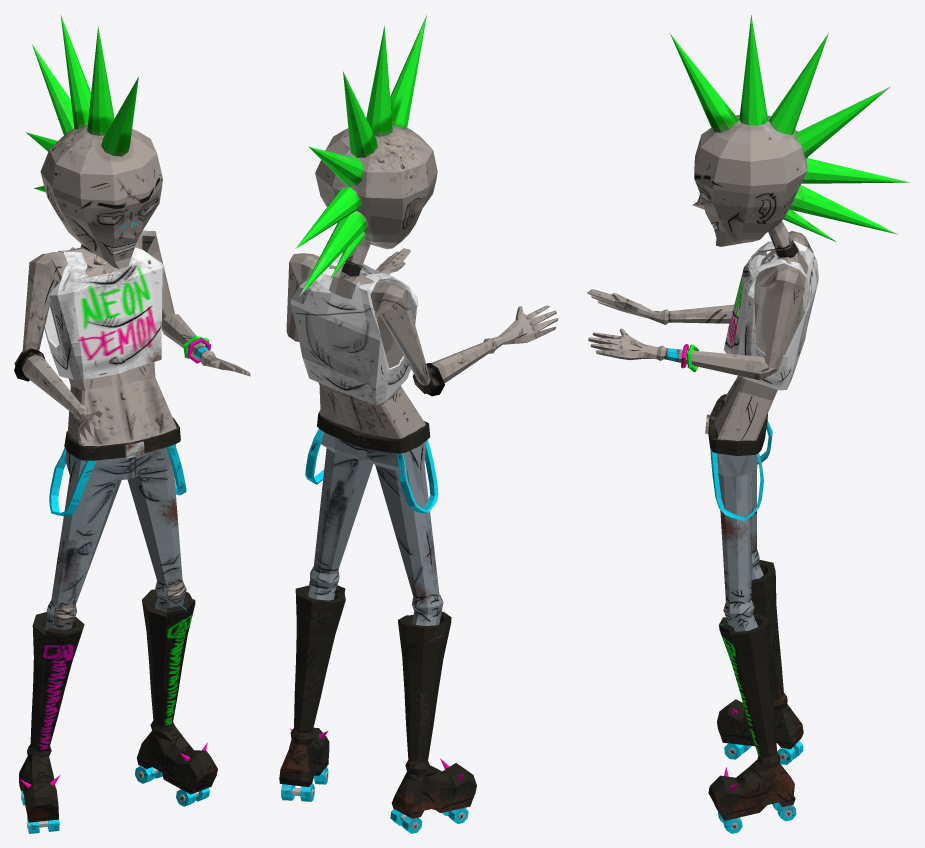
Rendered from punkAnimation_000004.obj.
The picture shows the model from 3 angles, left to right: view 1: azimuth 30°, elevation 25°; view 2: azimuth 150°, elevation 25°; view 3: azimuth 270°, elevation 25°; orthographic projection. The views are drawn at different scales.
Visible parts, largest first — view 1: Cube.004_Cube.003; view 2: Cube.004_Cube.003; view 3: Cube.004_Cube.003.
Part boxes in pixels (box(x1,y1,x2,y2)): Cube.004_Cube.003: box(14, 14, 250, 833); Cube.004_Cube.003: box(279, 15, 558, 833); Cube.004_Cube.003: box(587, 15, 909, 833).
Size of the model in its own units: 1.98 by 7.6 by 2.88.
